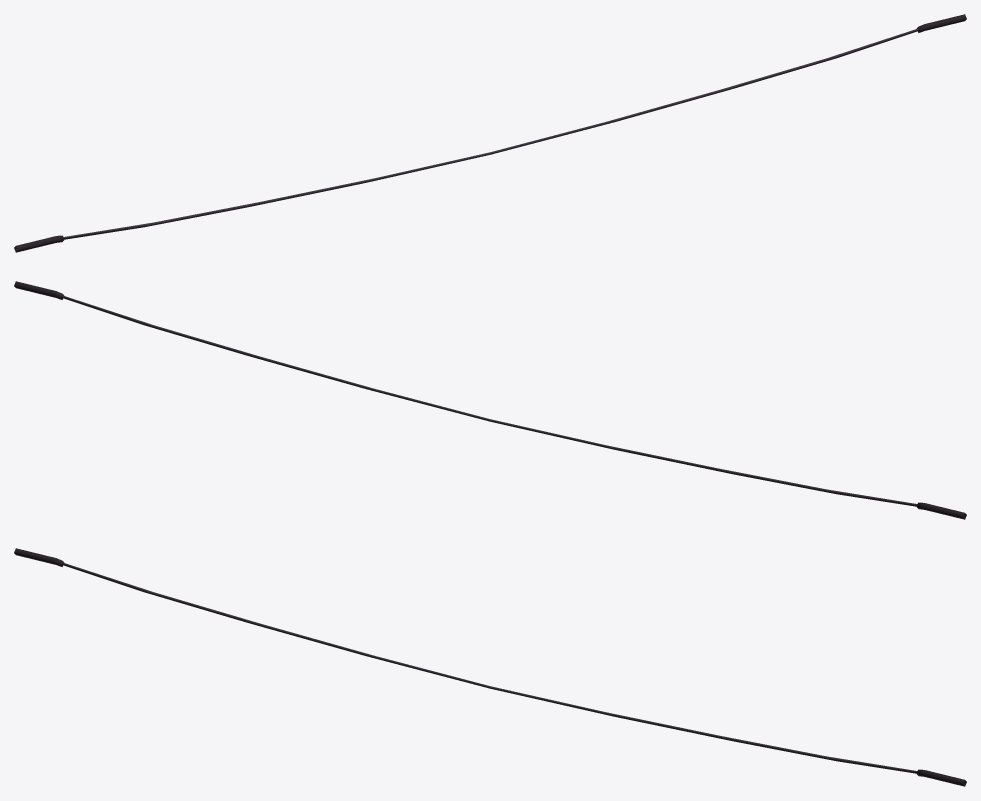
The model's file is Suspended_Cable_1A.fbx.
3 views of the same model, one above another, from view 1: azimuth 30°, elevation 25°; view 2: azimuth 150°, elevation 25°; view 3: azimuth 330°, elevation 25° (orthographic).
Parts seen in each view (by area): view 1: Suspended_Cable_1A; view 2: Suspended_Cable_1A; view 3: Suspended_Cable_1A.
Part boxes in pixels (bbox=[...]): Suspended_Cable_1A: bbox=[14, 14, 966, 252]; Suspended_Cable_1A: bbox=[14, 281, 966, 519]; Suspended_Cable_1A: bbox=[14, 548, 966, 786].
Size of the model in its own units: 2200 by 54.84 by 15.39.
